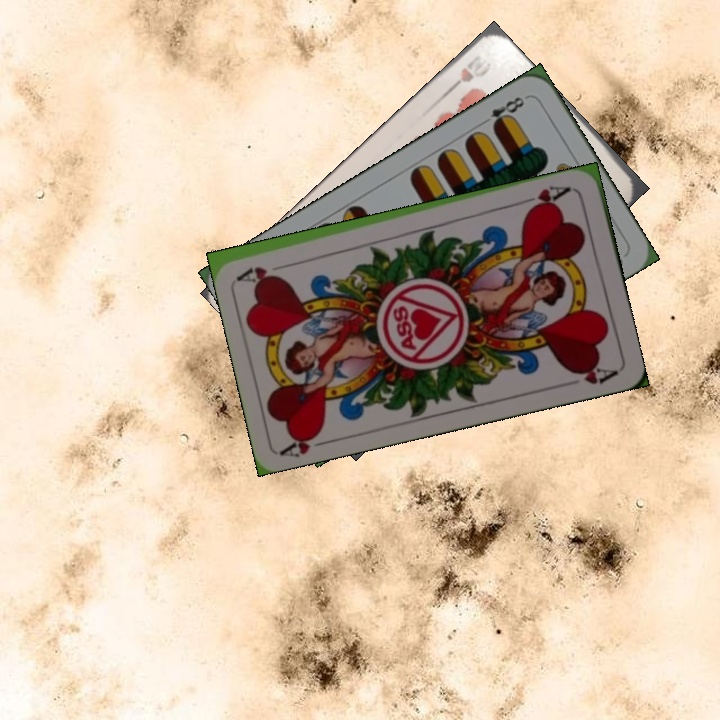E8: (477, 92, 530, 132)
H10: (443, 51, 487, 96)
HA: (278, 425, 337, 460), (518, 181, 576, 213)
